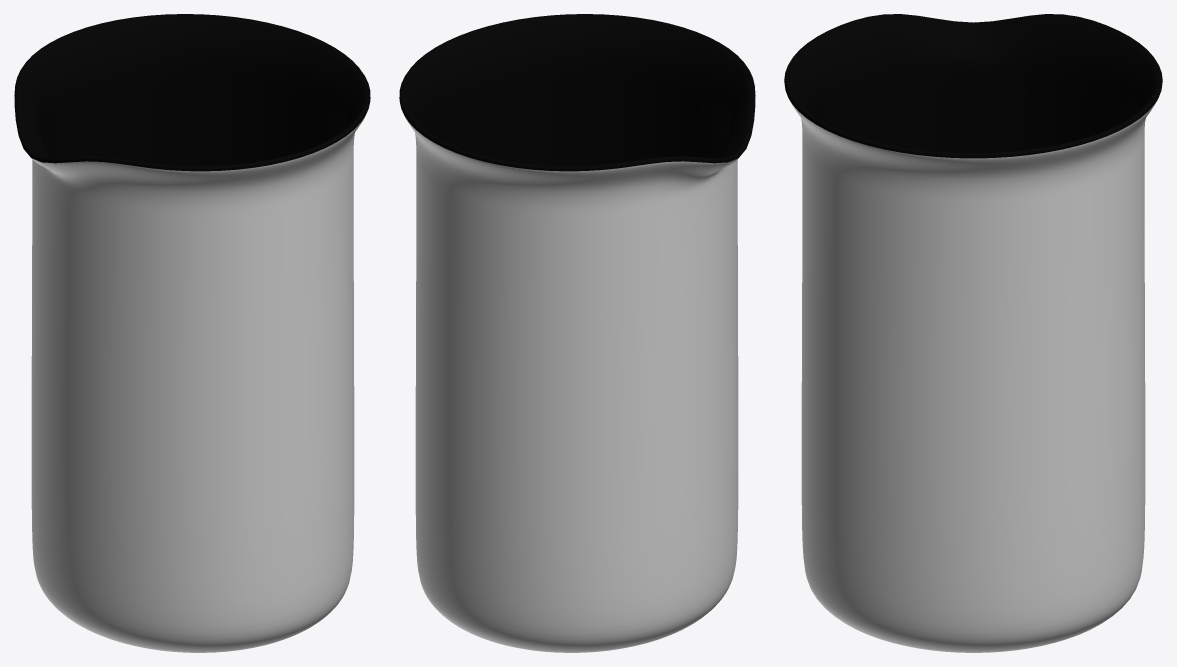
File: beaker.glb
3 views of the same model, side by side, from view 1: azimuth 30°, elevation 25°; view 2: azimuth 150°, elevation 25°; view 3: azimuth 270°, elevation 25° (orthographic). The views are drawn at different scales.
Parts seen in each view (by area): view 1: Vert; view 2: Vert; view 3: Vert.
Part boxes in pixels (x1,y1,x2,y2): Vert: [14, 14, 370, 652]; Vert: [399, 14, 755, 652]; Vert: [784, 14, 1162, 652].
Size of the model in its own units: 0.0991 by 0.1569 by 0.1007.
2 materials, 1 textured.
